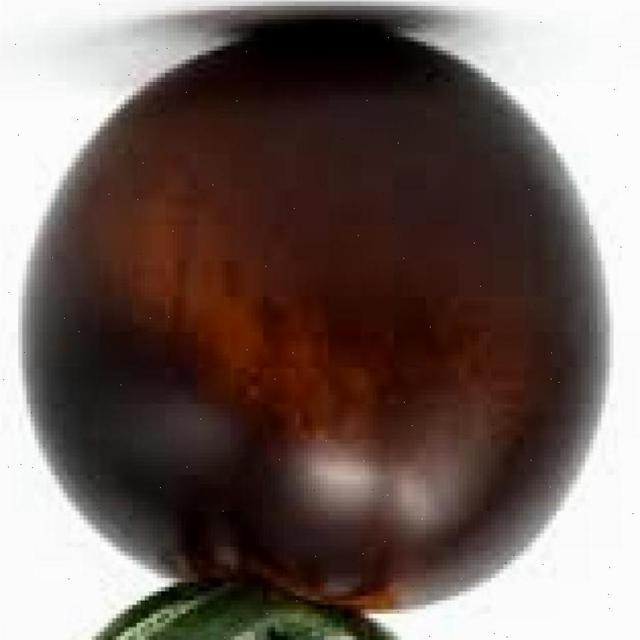Healthy Fruit: (1, 0, 409, 426)
